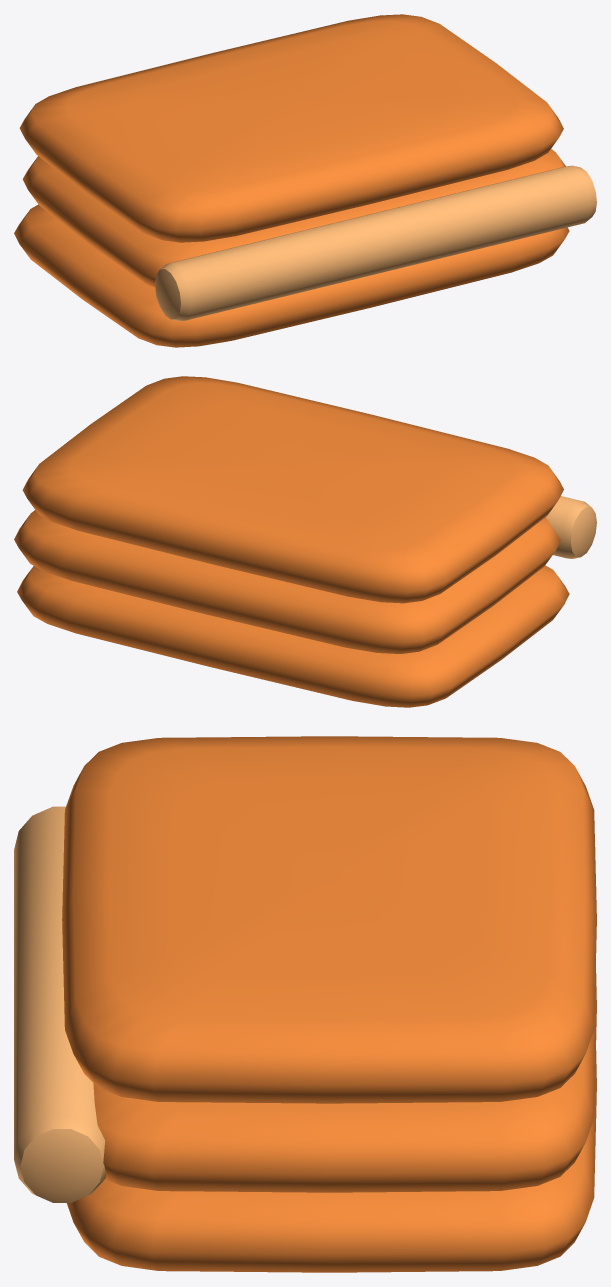
Rendered from toalha_dobrada_laranja.glb.
The picture shows the model from 3 angles, top to bottom: view 1: azimuth 30°, elevation 25°; view 2: azimuth 150°, elevation 25°; view 3: azimuth 270°, elevation 25°; orthographic projection. The views are drawn at different scales.
Parts seen in each view (by area): view 1: toalha_dobrada_laranja; view 2: toalha_dobrada_laranja; view 3: toalha_dobrada_laranja.
Boxes of the visible parts, x1,y1,x2,y2 form: toalha_dobrada_laranja: [14, 14, 596, 347]; toalha_dobrada_laranja: [14, 376, 596, 707]; toalha_dobrada_laranja: [14, 736, 596, 1272].
Size of the model in its own units: 0.302 by 0.104 by 0.218.
1 material, 1 textured.
